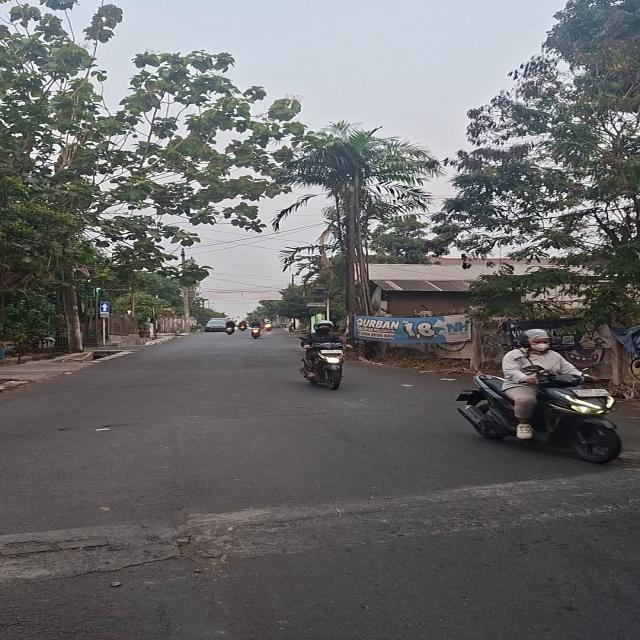WithHelmet: (501, 329, 600, 440), (299, 320, 353, 379), (250, 319, 263, 335), (224, 320, 236, 332), (236, 320, 248, 329)
